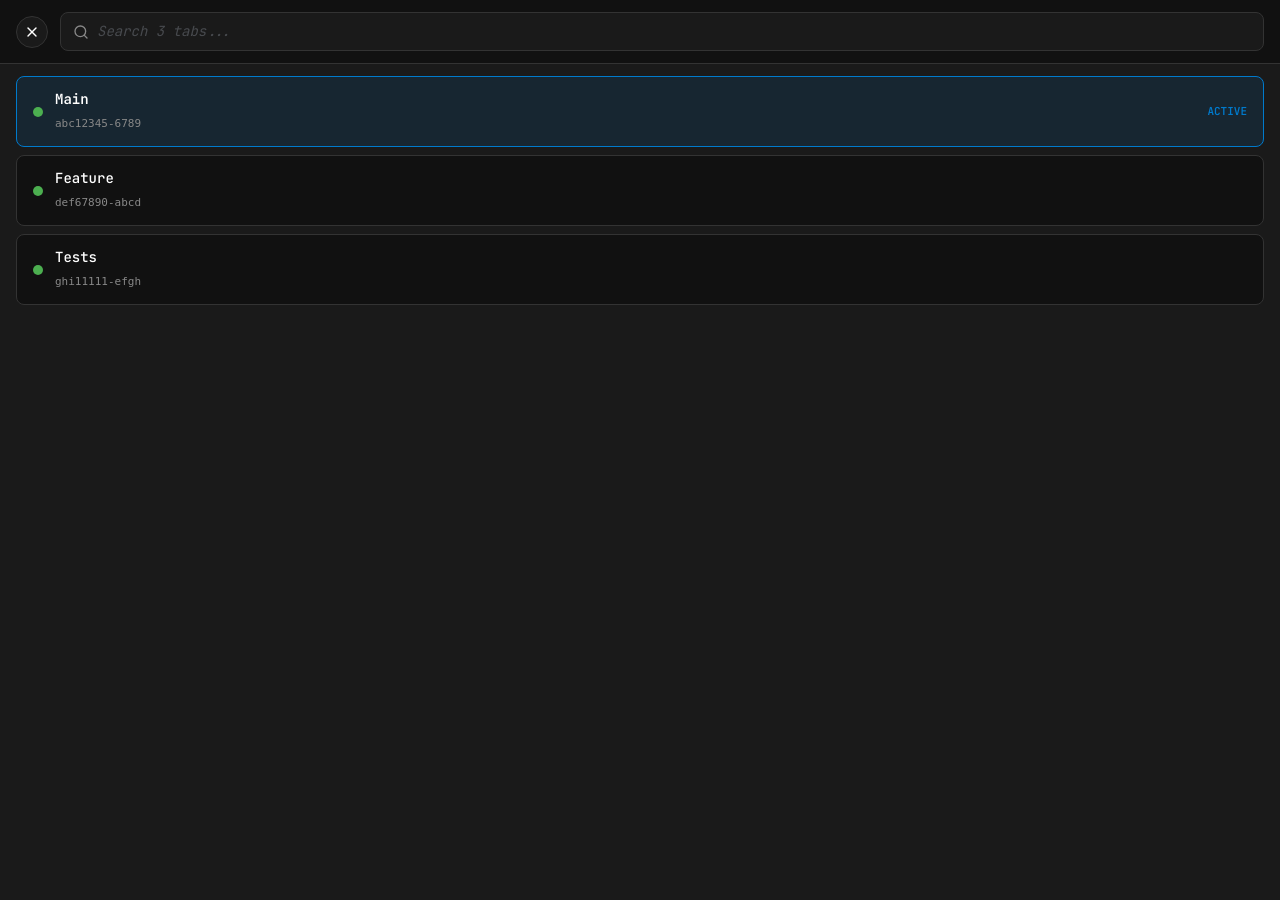
it: TabSearchModal › Integration scenarios › search -> clear -> search flow
This screenshot has width=1280, height=900.
Type "Main" into the field with placeholder "Search 3 tabs..." at (674, 32), box [97,21,1251,42]
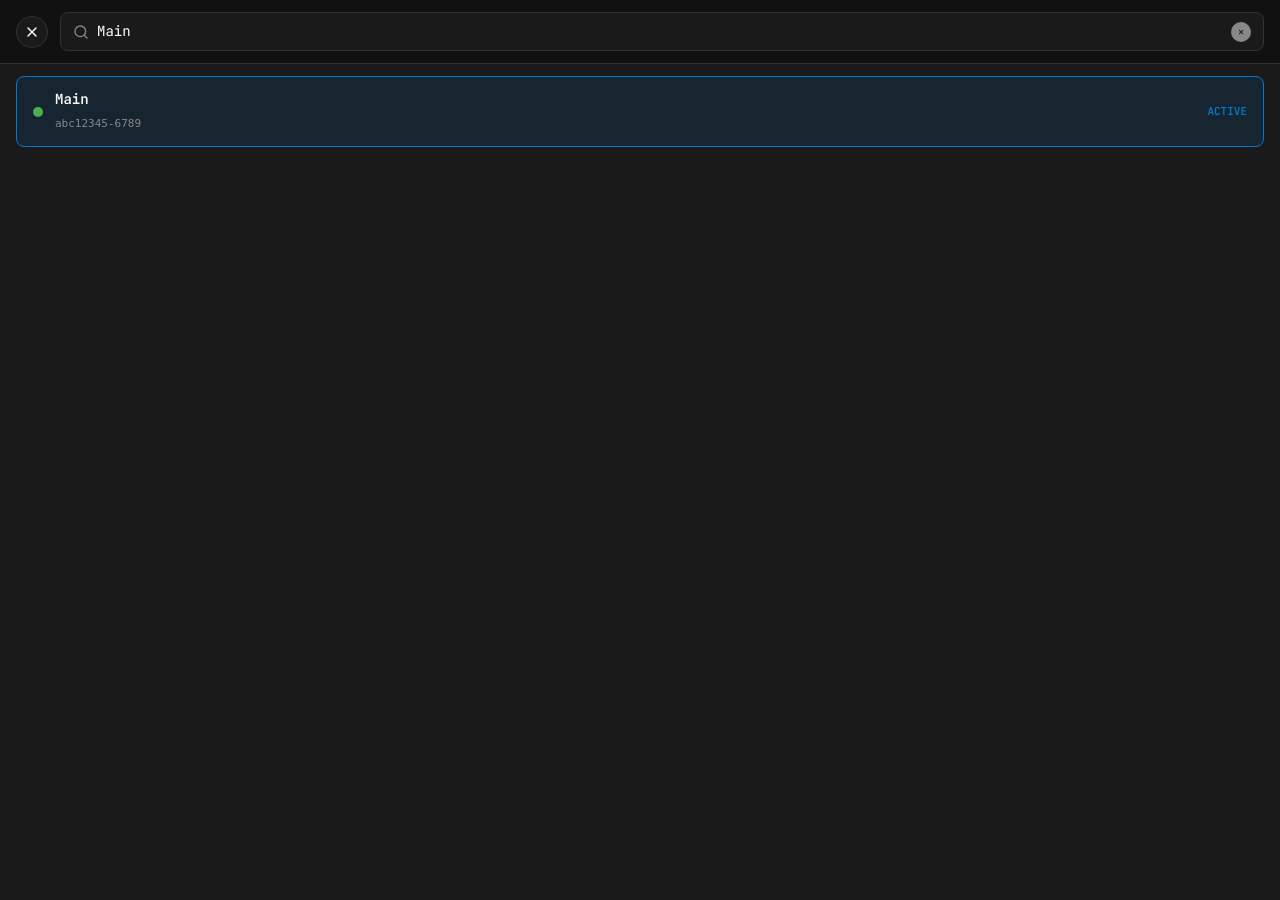
Expected: the text "Main" is shown, [55,89,89,110]
Expected: the button "Feature" is gone
Click the button "×" at (1241, 32), box [1231,22,1251,42]
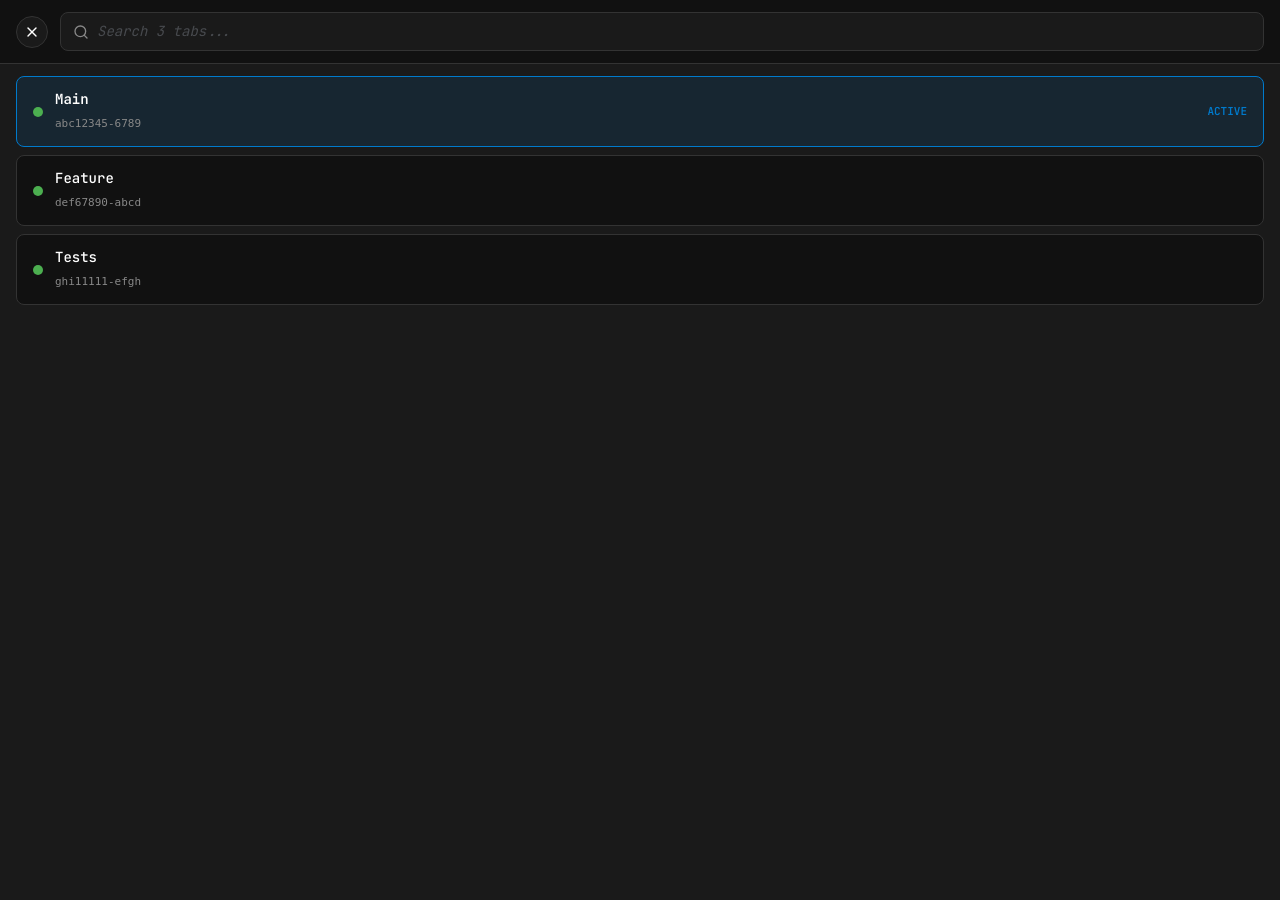
Expected: the text "Main" is shown, [55,89,89,110]
Expected: the text "Feature" is shown, [55,168,114,189]
Expected: the text "Tests" is shown, [55,247,97,268]
Search again
Type "Feature" into the field with placeholder "Search 3 tabs..." at (674, 32), box [97,21,1251,42]
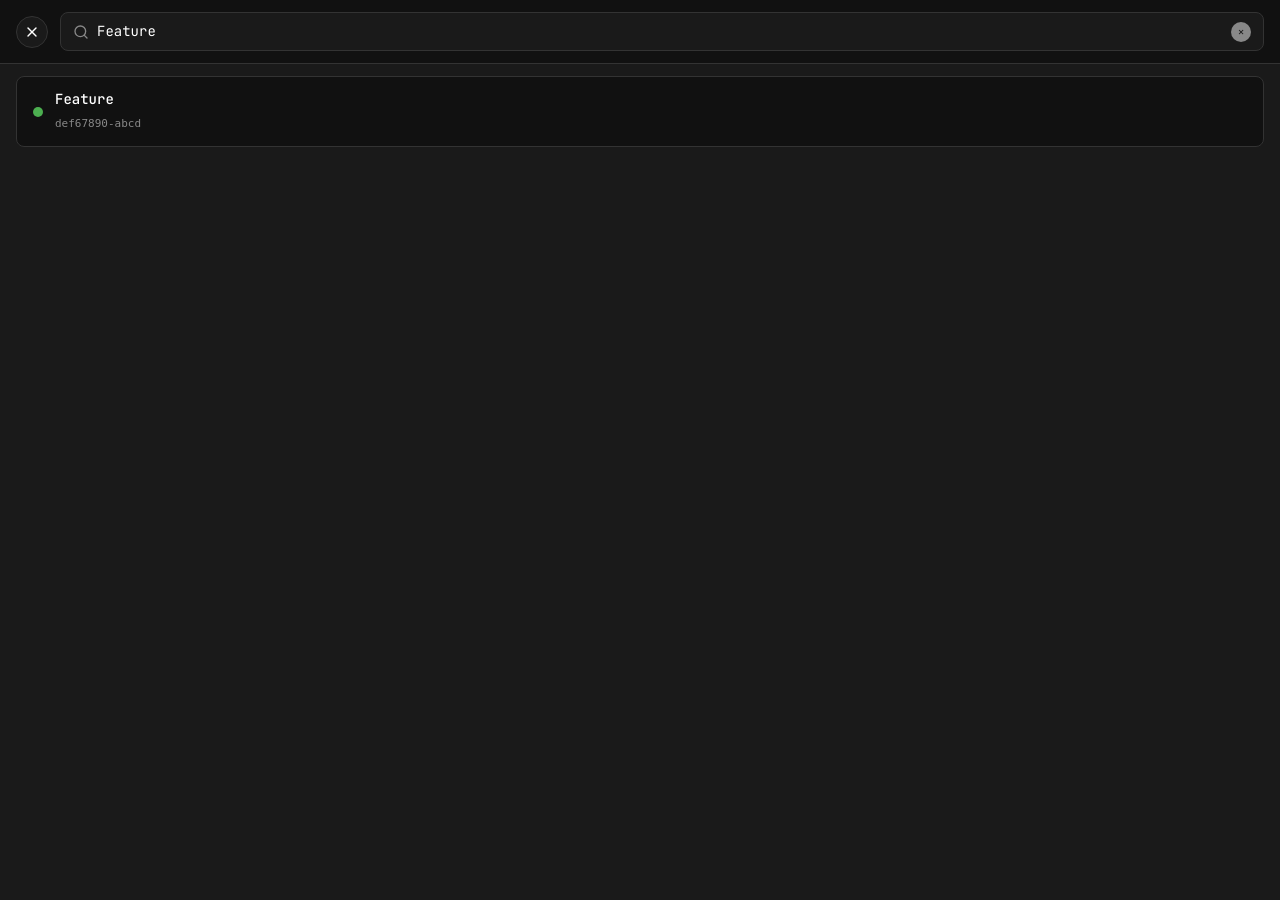
Expected: the text "Feature" is shown, [55,89,114,110]
Expected: the button "Main" is gone
